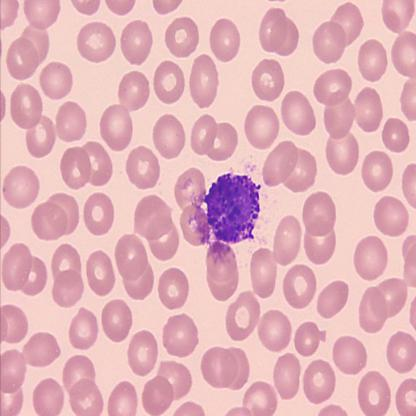Basophil: (199, 168, 262, 247)
